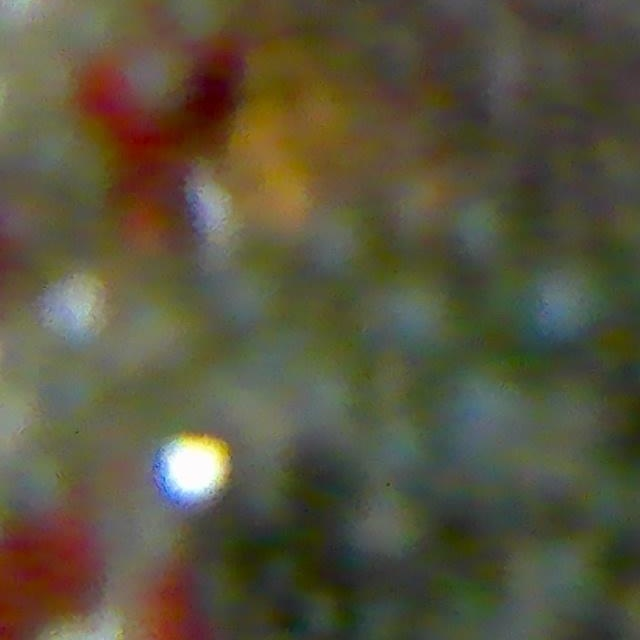SeaGrape: (438, 357, 537, 458), (515, 252, 612, 346), (369, 266, 459, 360), (342, 486, 429, 567), (38, 266, 115, 351), (303, 199, 380, 279), (120, 39, 196, 120), (214, 252, 291, 331), (448, 192, 520, 266), (362, 411, 433, 483), (38, 359, 109, 431)
